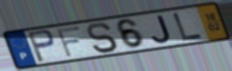6: (115, 17, 147, 50)
F: (55, 25, 83, 59)
J: (151, 14, 174, 45)
L: (171, 12, 205, 42)
P: (26, 28, 57, 64)
S: (85, 21, 120, 54)
